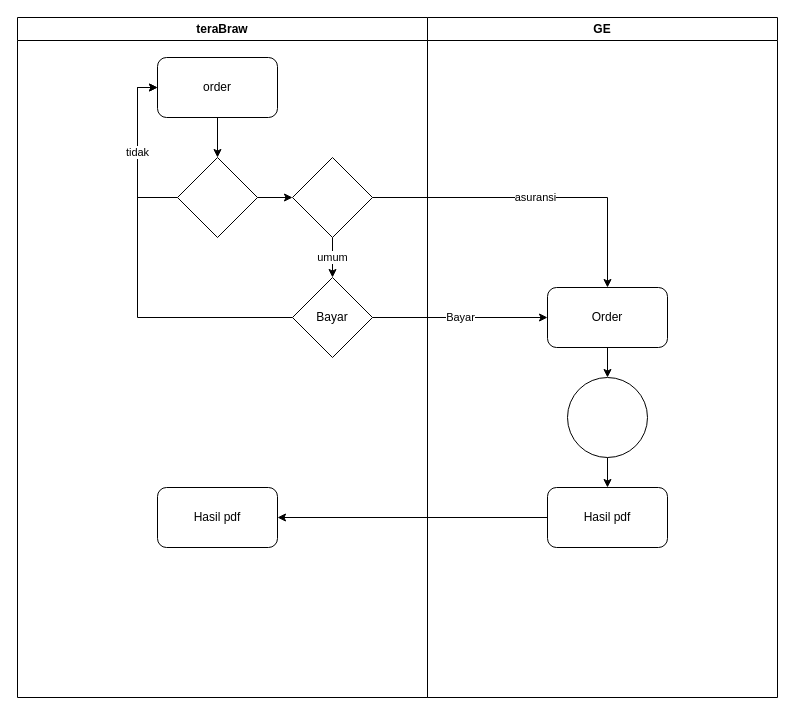
Some shapes in this 795 by 715 pixel diagram are drawn without their labels. Here are the shapes that lost their labels. From the top down, the centre of each, then its label:
At (x=217, y=197): "confirm".
At (x=332, y=197): "Umum asuransi".
At (x=607, y=417): "proses".
